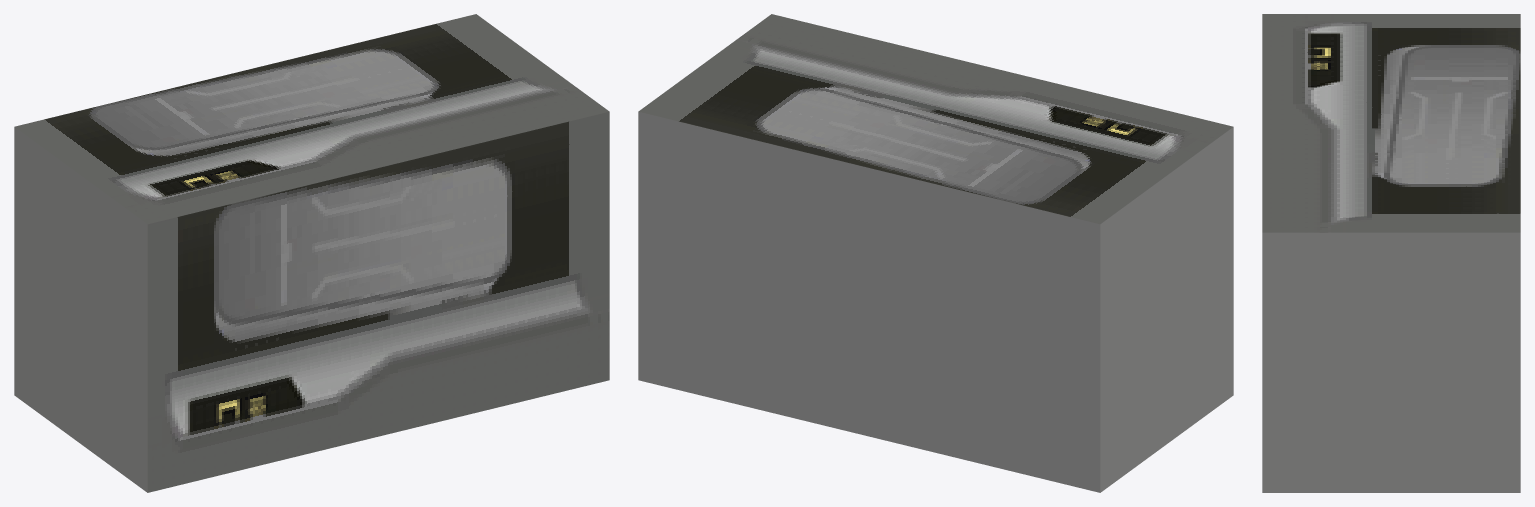
Rendered from Building_Ship_CryptosleepCasket.glb.
3 views of the same model, side by side, from view 1: azimuth 30°, elevation 25°; view 2: azimuth 150°, elevation 25°; view 3: azimuth 270°, elevation 25° (orthographic). The views are drawn at different scales.
Parts seen in each view (by area): view 1: Ship_CryptosleepCasket; view 2: Ship_CryptosleepCasket; view 3: Ship_CryptosleepCasket.
Part boxes in pixels (bbox=[...]): Ship_CryptosleepCasket: bbox=[14, 14, 609, 492]; Ship_CryptosleepCasket: bbox=[638, 14, 1233, 492]; Ship_CryptosleepCasket: bbox=[1262, 14, 1520, 492].
Size of the model in its own units: 1.8 by 1 by 0.9.
1 material, 1 textured.
